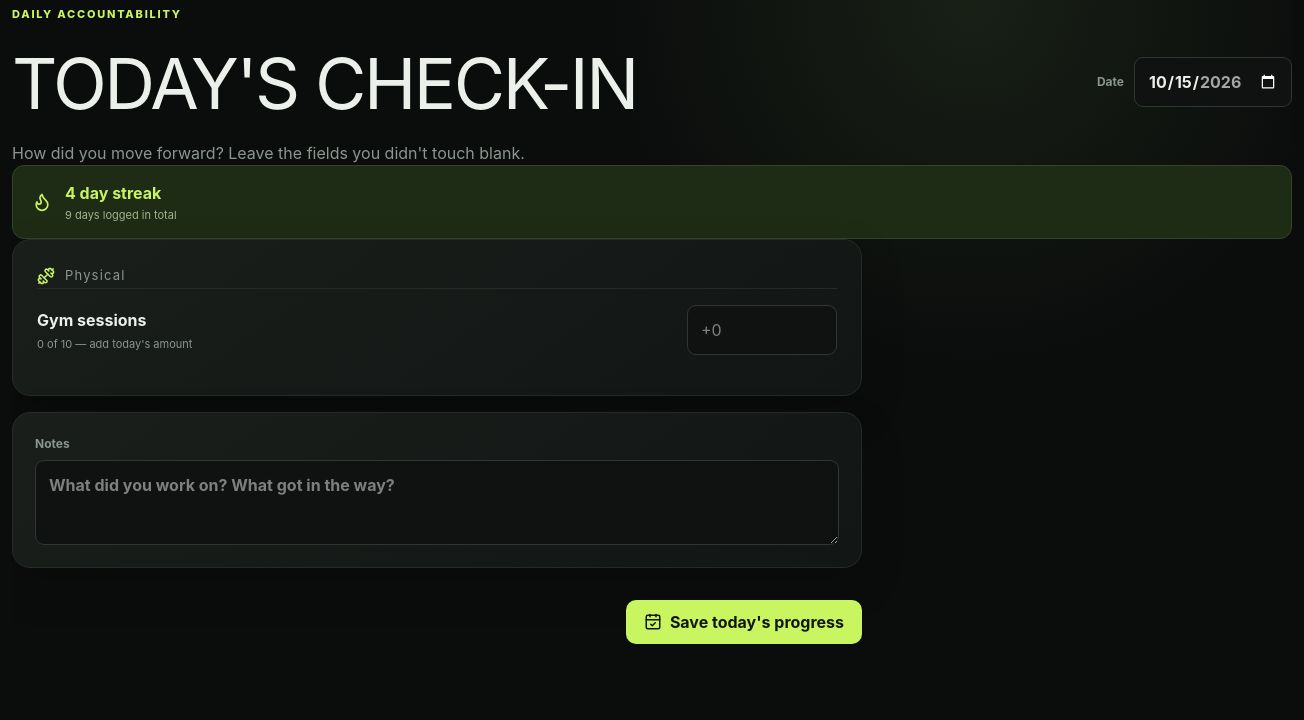
Test: check-in form › refuses an entirely empty submission
Click the button "Save today's progress".
click(744, 622)  # box [626,600,862,644]
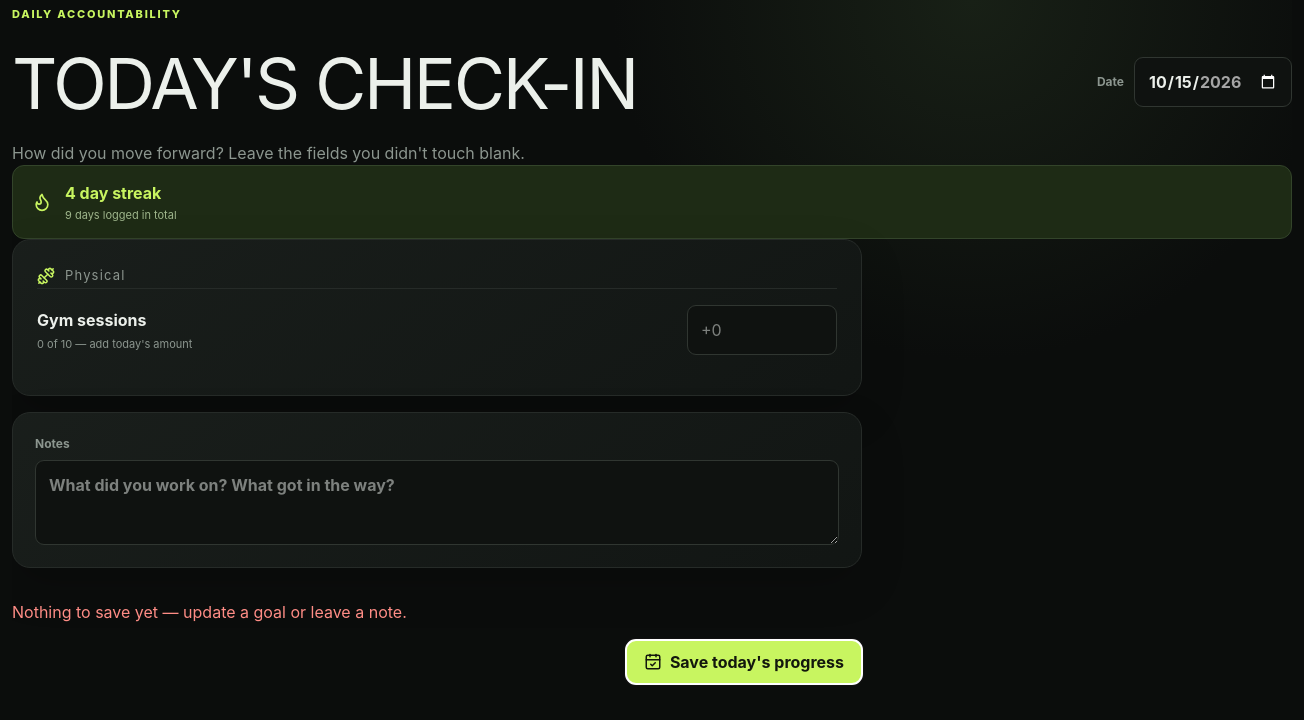
Expected: the text "Nothing to save yet — update a goal or leave a note." is shown, [12,602,407,622]
